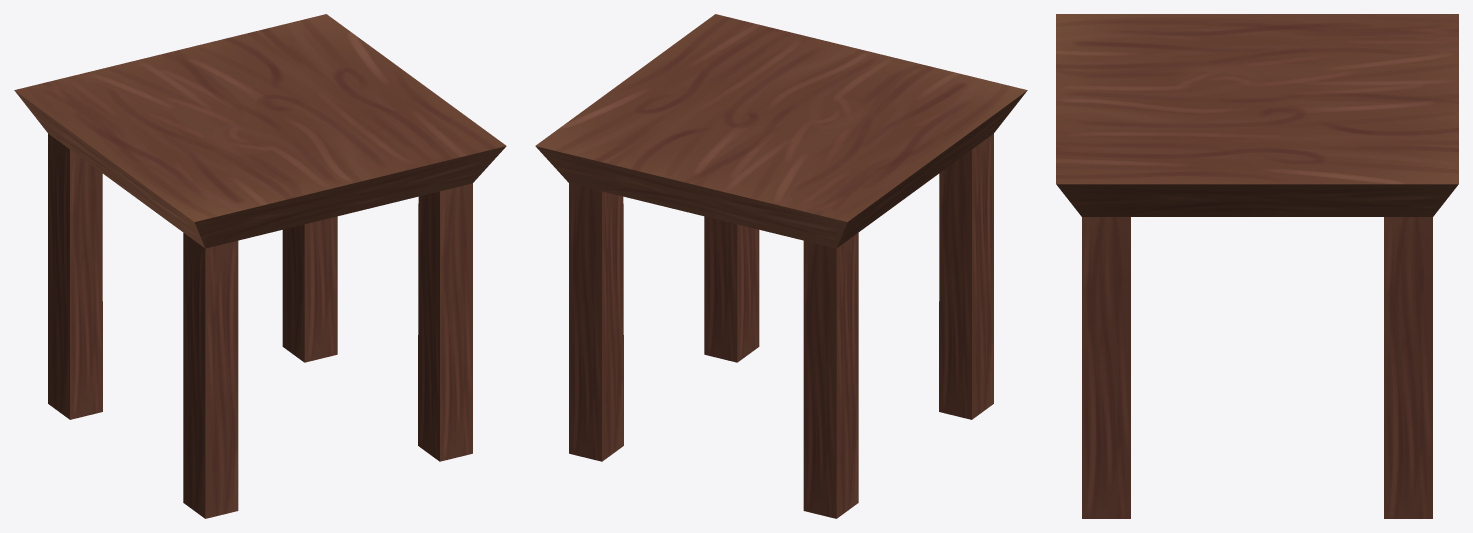
The model's file is mesaMed.fbx.
3 views of the same model, side by side, from view 1: azimuth 30°, elevation 25°; view 2: azimuth 150°, elevation 25°; view 3: azimuth 270°, elevation 25° (orthographic). The views are drawn at different scales.
Visible parts, largest first — view 1: mesinhaMed; view 2: mesinhaMed; view 3: mesinhaMed.
Part boxes in pixels (bbox=[...]): mesinhaMed: bbox=[14, 14, 506, 518]; mesinhaMed: bbox=[535, 14, 1027, 518]; mesinhaMed: bbox=[1056, 14, 1458, 518].
Bounding box in the file's own units: 200 × 190 × 200.
1 material, 1 textured.
